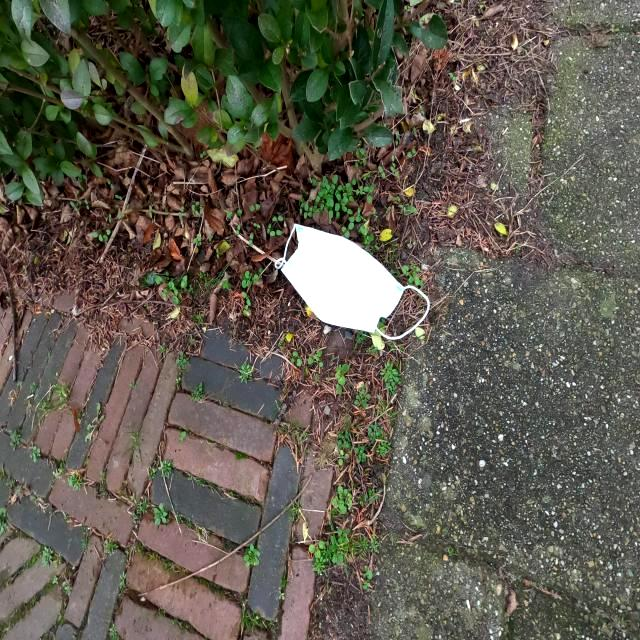Mask: (273, 220, 432, 344)
